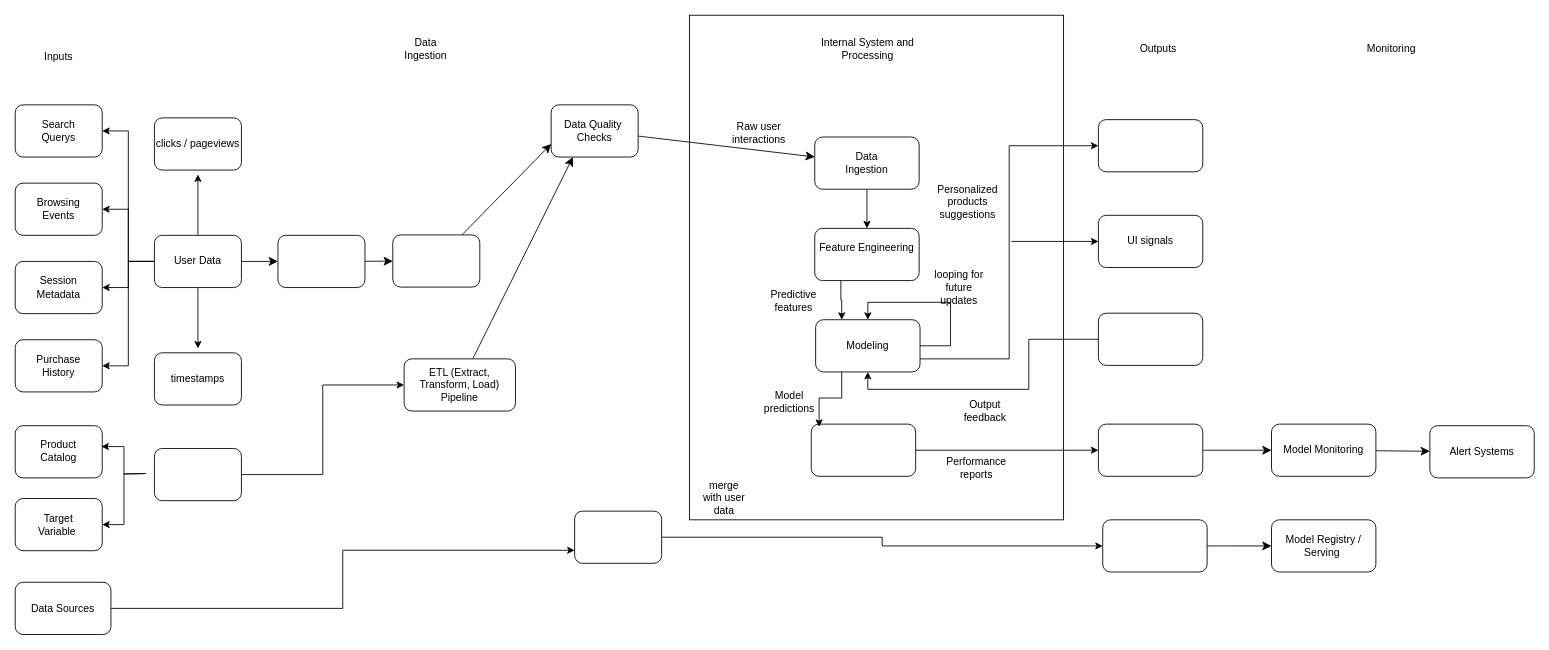
The diagram is 1549 pixels wide and 650 high, and some of its shapes have lost their labels. Each missing label, with the centre of its shape:
API Gateway: [321,261]
Evaluation: [863,449]
Historical Data: [197,474]
Main Prediction: [1150,145]
Message Queue: [436,260]
Metrics: [1150,449]
Model Versioning: [1154,545]
Prediction Records: [1150,338]
Processing / Feature / Training: [618,536]
